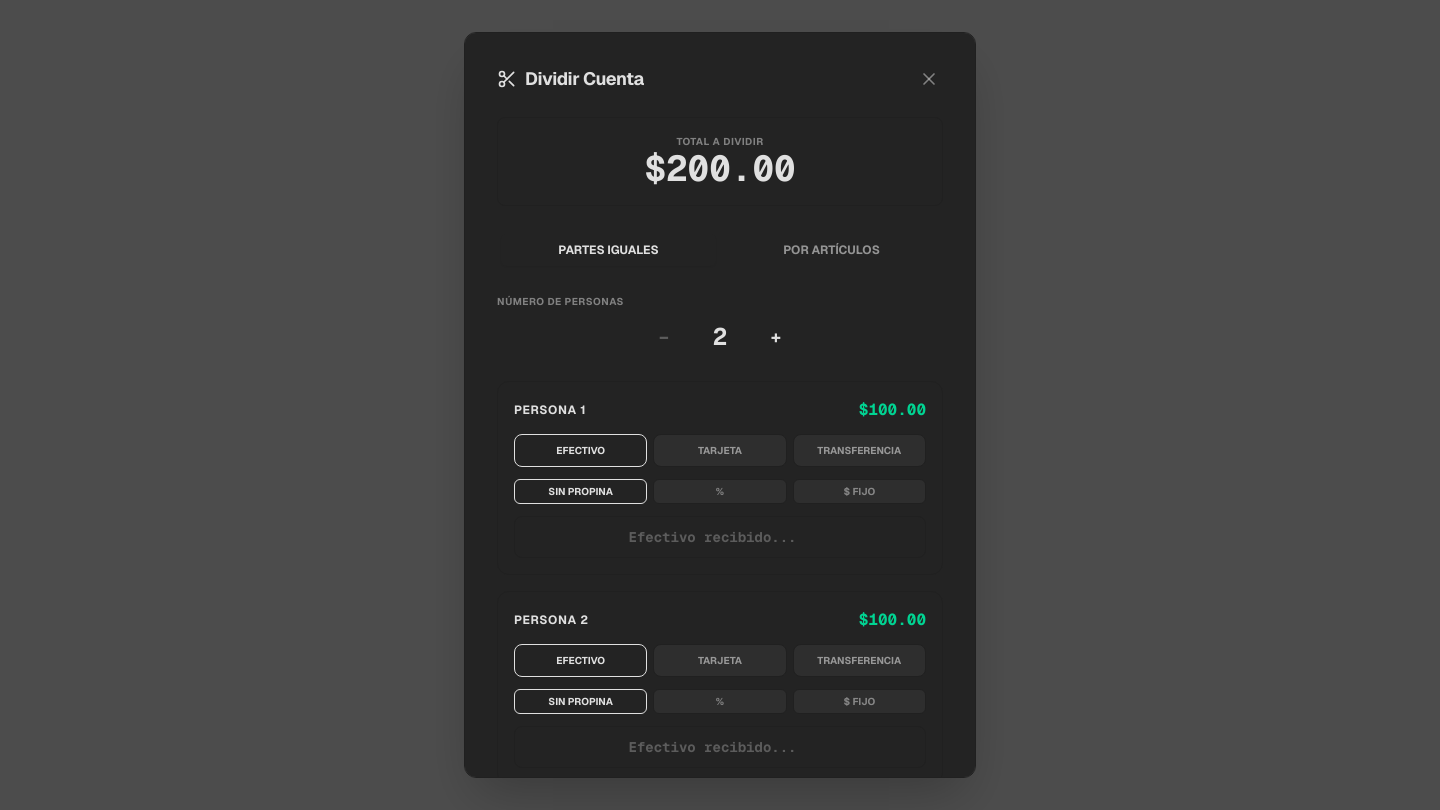
SplitBillModal Component › shows explicit tip amount and 'Total con propina' for Admin
Note: Click % tip for persona 1
What coordinates should you click on to do the following:
click the 1st button "%"
I would click on:
 (720, 492)
Its box is [653,479,787,504].
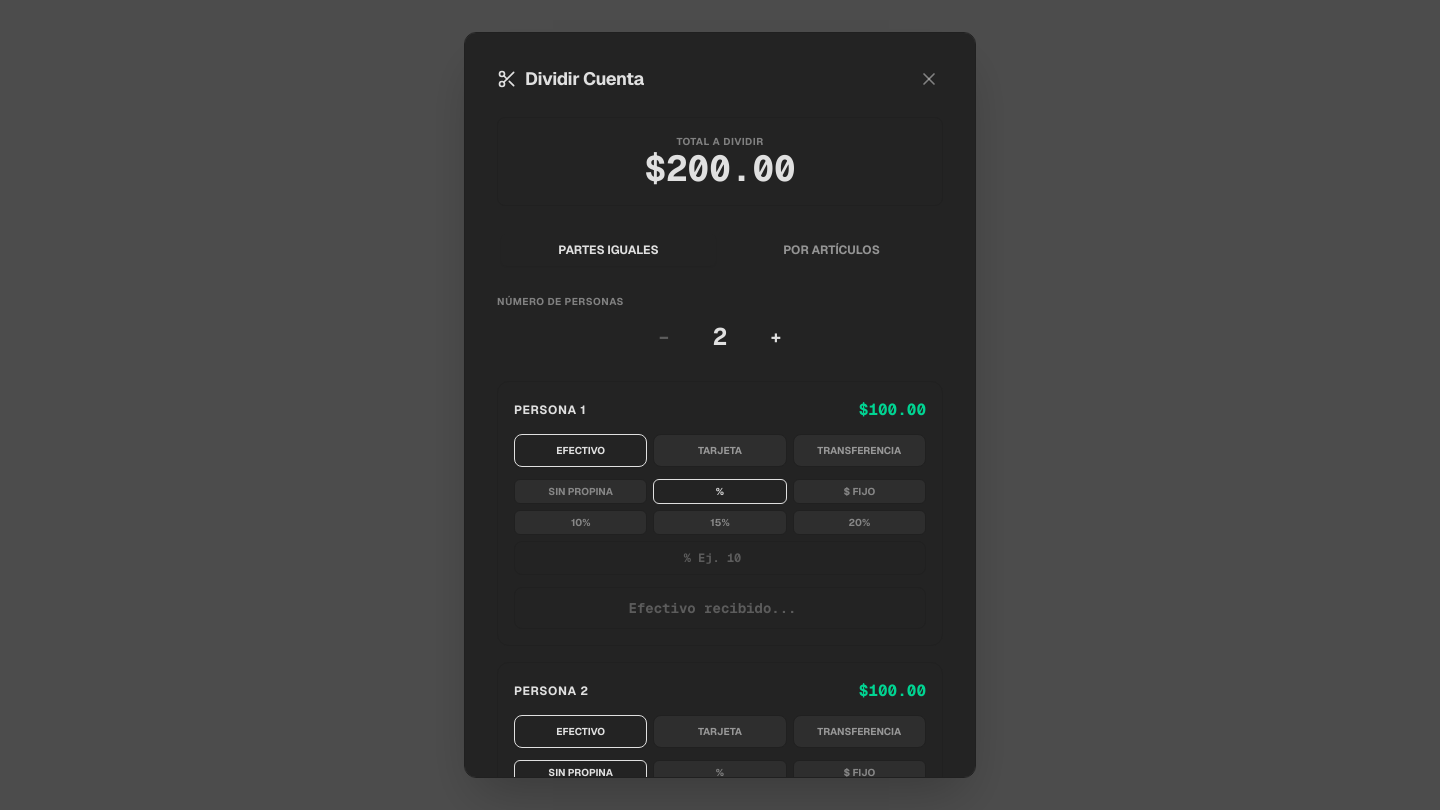
Note: Click 10% preset
What coordinates should you click on to do the following:
click the button "10%"
I would click on:
 (581, 523)
Its box is [514,510,647,535].
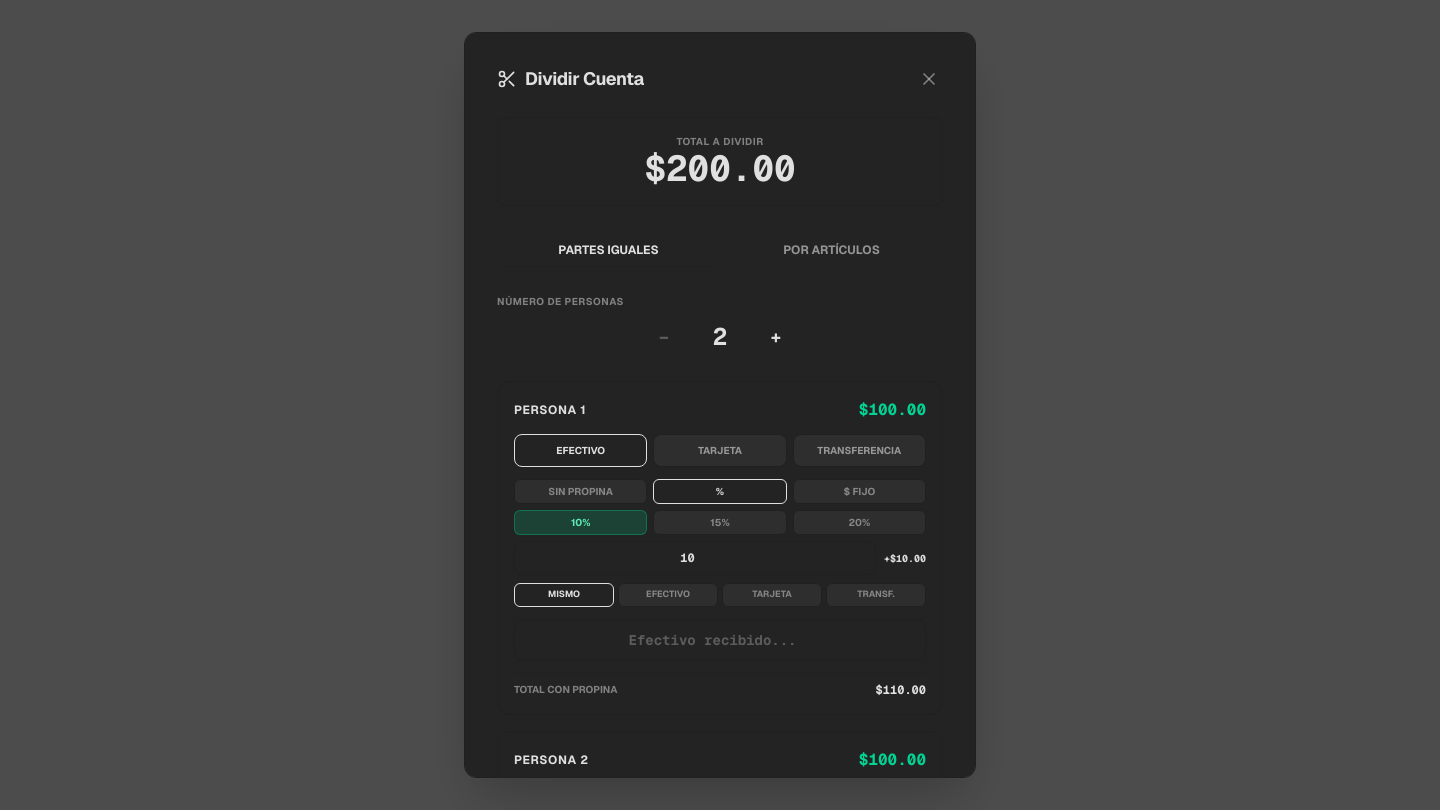
Result: the text "+$10.00" is shown at [884,551,926,566]
Result: the text "Total con propina" is shown at [514,682,618,697]
Result: the text "$110.00" is shown at [876,682,926,698]
